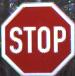Stop sign: (0, 0, 74, 75)
